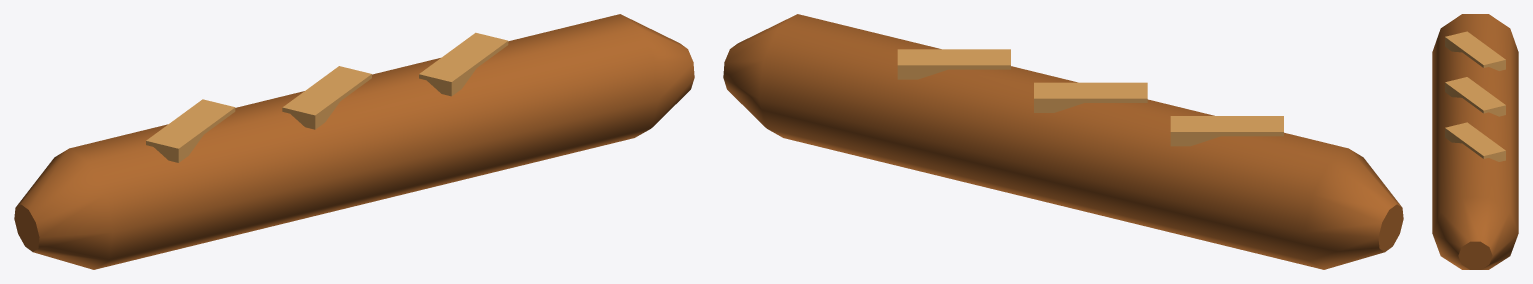
File: Baguette.fbx
The picture shows the model from 3 angles, left to right: view 1: azimuth 30°, elevation 25°; view 2: azimuth 150°, elevation 25°; view 3: azimuth 270°, elevation 25°; orthographic projection. The views are drawn at different scales.
Parts seen in each view (by area): view 1: Baguette; view 2: Baguette; view 3: Baguette.
Part boxes in pixels (bbox=[...]): Baguette: bbox=[14, 14, 694, 269]; Baguette: bbox=[723, 14, 1403, 269]; Baguette: bbox=[1432, 14, 1518, 269].
Bounding box in the file's own units: 2.42 × 0.395 × 0.4.
1 material, 1 textured.
